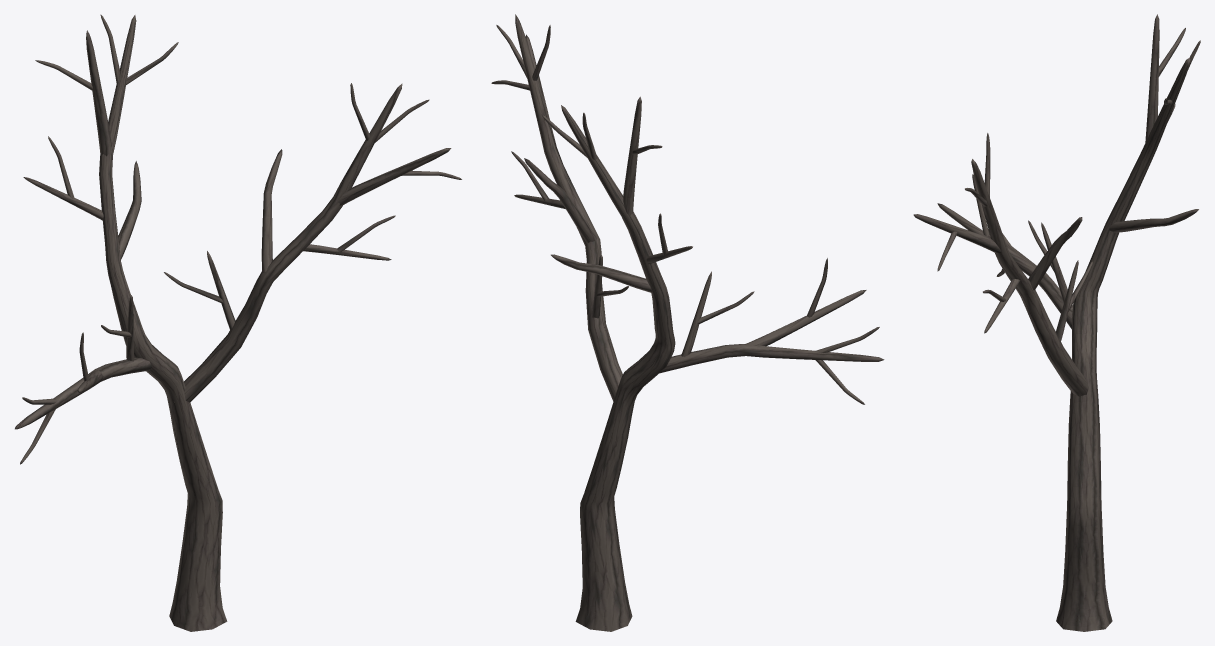
File: DeadTree_10.glb
3 views of the same model, side by side, from view 1: azimuth 30°, elevation 25°; view 2: azimuth 150°, elevation 25°; view 3: azimuth 270°, elevation 25° (orthographic). The views are drawn at different scales.
Parts seen in each view (by area): view 1: DeadTree_10; view 2: DeadTree_10; view 3: DeadTree_10.
Boxes of the visible parts, x1=… form: DeadTree_10: x1=15, y1=14, x2=461, y2=631; DeadTree_10: x1=491, y1=14, x2=884, y2=631; DeadTree_10: x1=913, y1=14, x2=1200, y2=631.
Bounding box in the file's own units: 5.46 × 7.13 × 3.24.
1 material, 1 textured.
